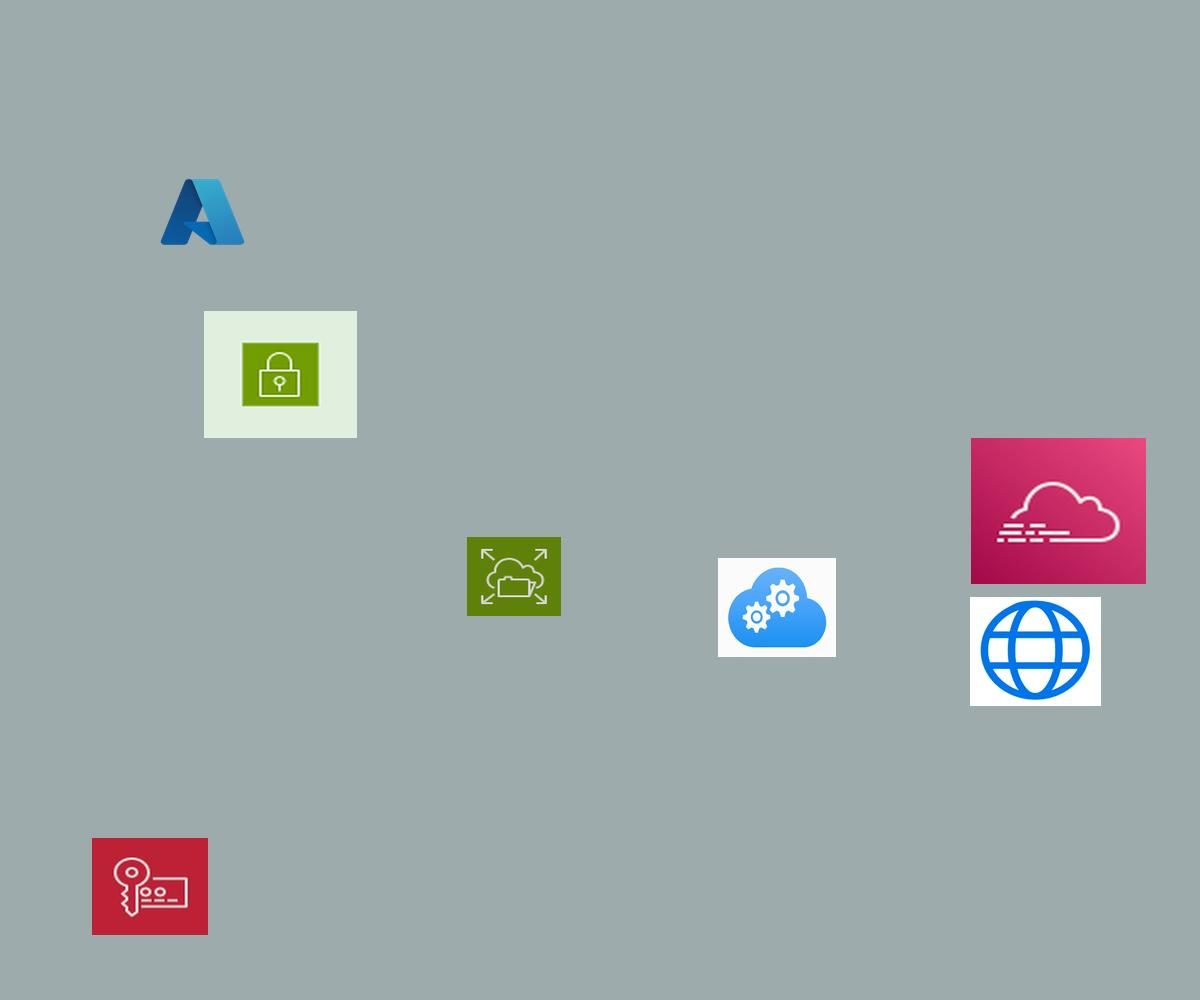AWS-CloudTrail: (971, 438, 1146, 584)
AWS-EFS: (467, 537, 561, 616)
AWS-Key-Management-Service: (92, 838, 208, 935)
AWS-Public-subnet: (204, 311, 357, 438)
Azure_cloud_services: (718, 558, 836, 657)
Azure_http: (970, 597, 1101, 706)
Azure_services: (157, 174, 248, 250)
